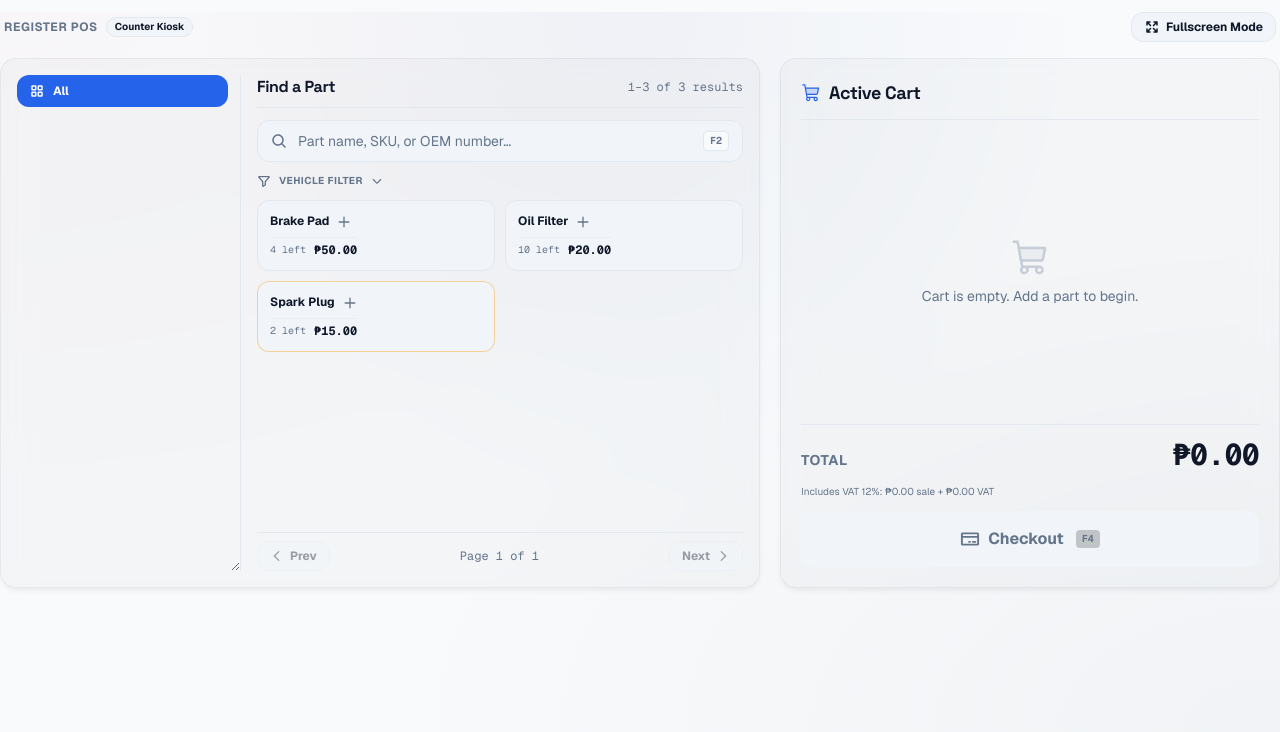
TransactionPOS Integration Tests › Step 2: Cart item calculation includes PH 12% VAT extraction
Step 1. Click the button with aria-label "Add Brake Pad" → (376, 236), box [257,200,495,271]
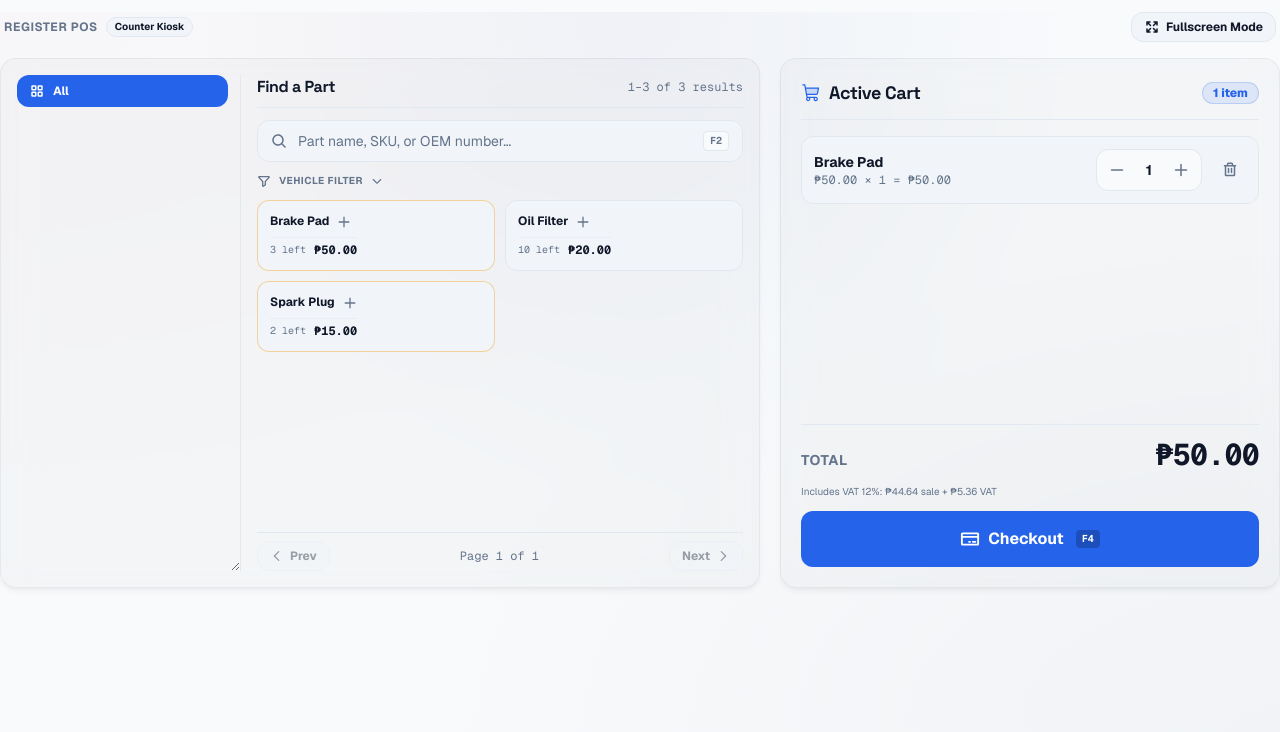
Expected: the text with test id "pos-total" reads "₱50.00", [1156,435,1259,474]
Expected: the text with test id "pos-vat-note" shows "₱44.64", [885,485,918,498]
Expected: the text with test id "pos-vat-note" shows "₱5.36", [950,485,977,498]
